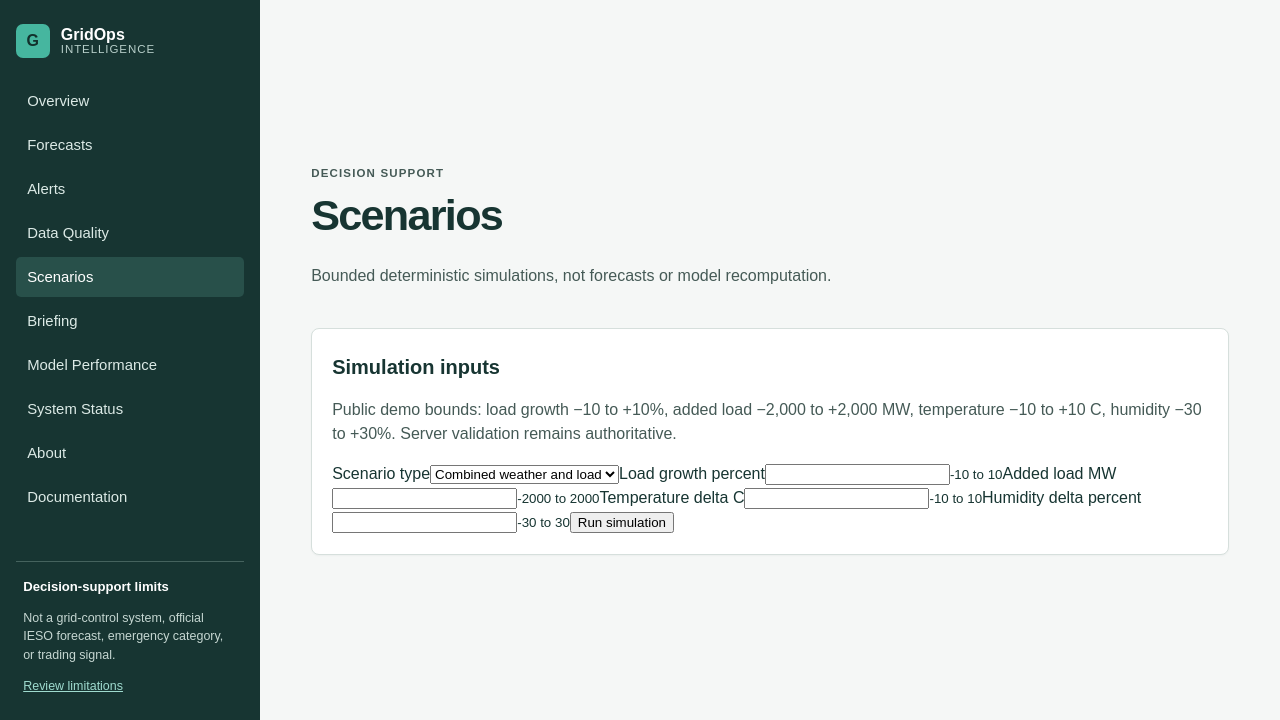
Test case: decision-support screens › shows a safe server error for scenario status 400
The width and height of the screenshot is (1280, 720).
Click the button "Run simulation". click: point(622, 522)
box: [570,512,674,533]
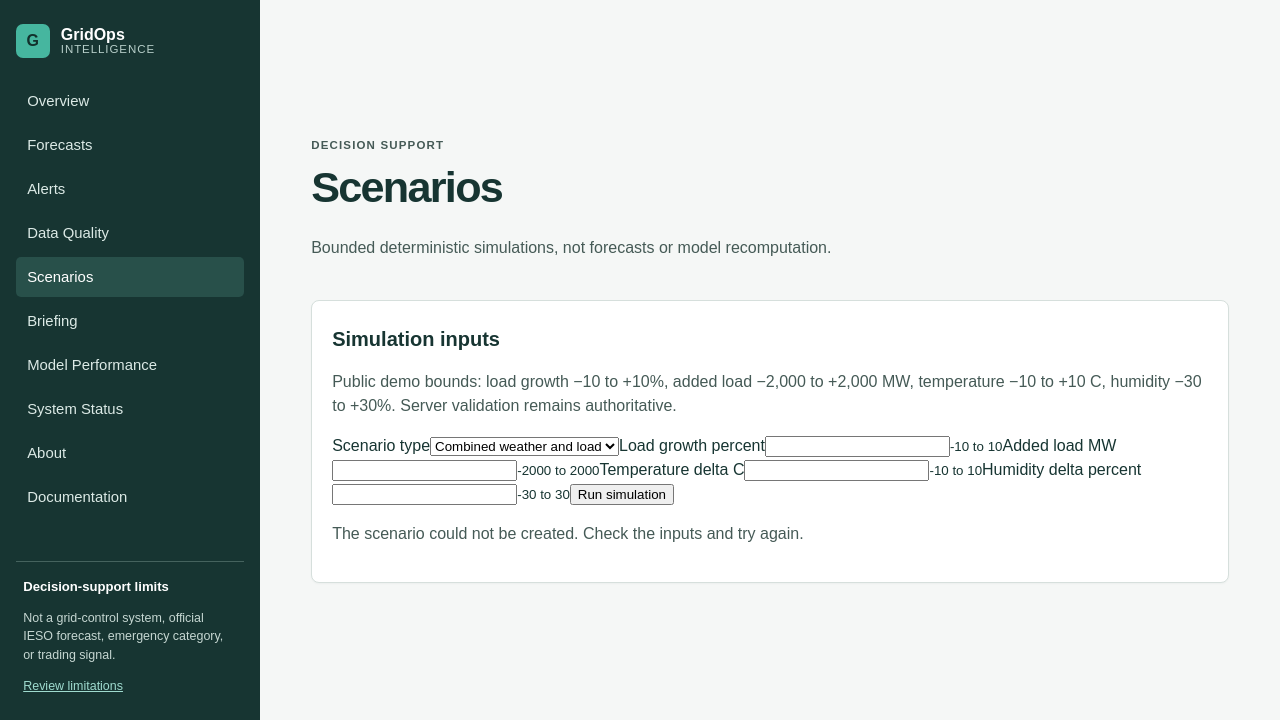
Expected: the message shows "scenario could not be created", [332,525,804,542]
